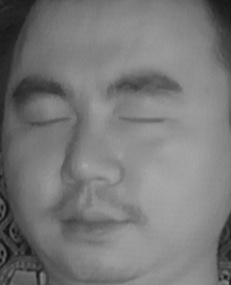blink: (25, 103, 74, 139), (117, 103, 165, 137)
mouth: (56, 190, 136, 248)
